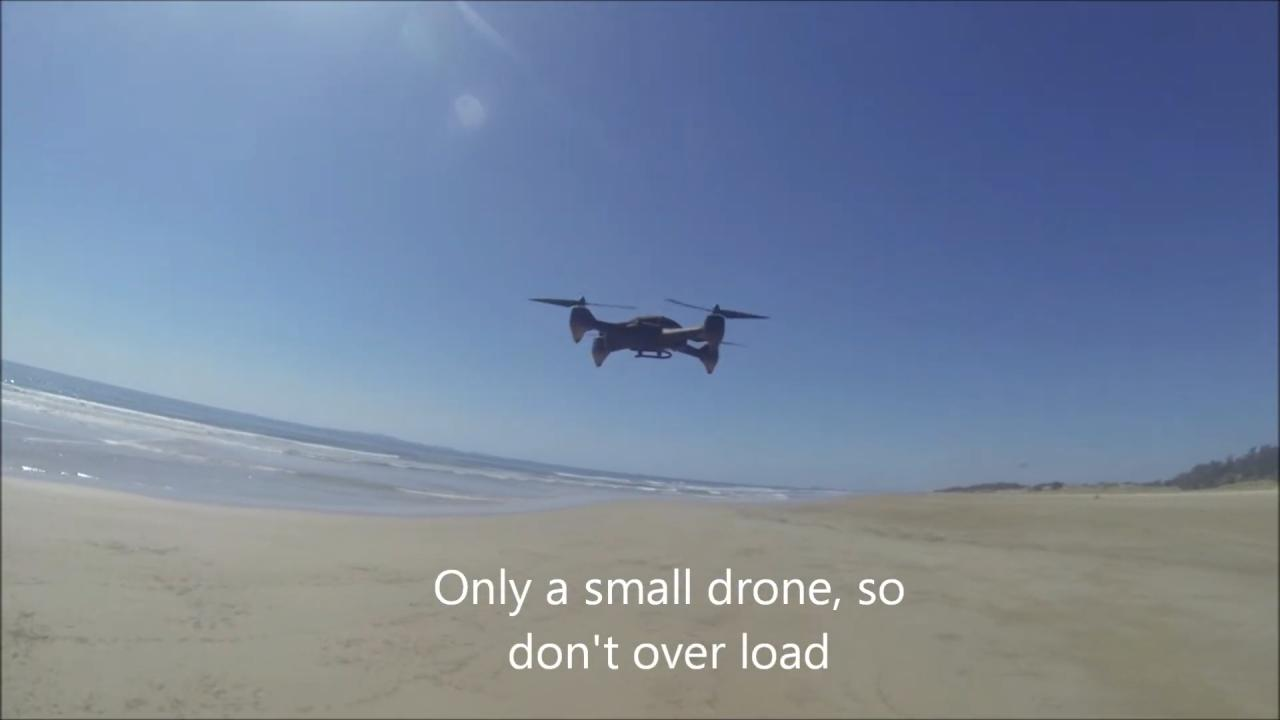Drone: (518, 276, 784, 387)
